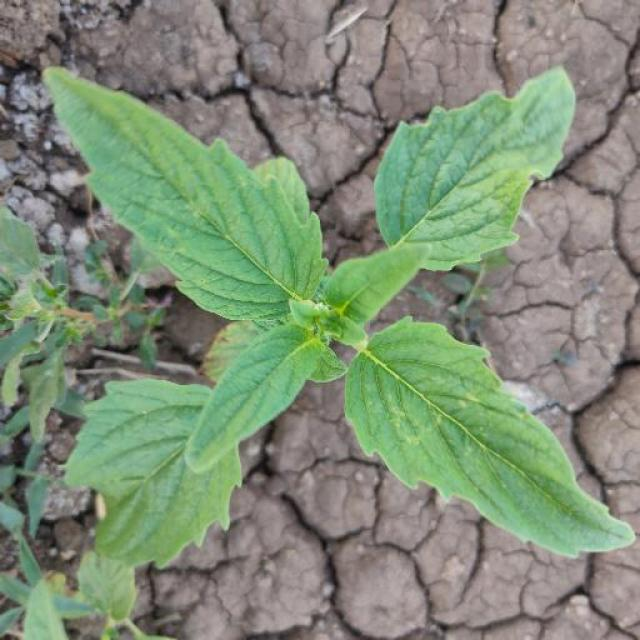crop: (30, 58, 628, 576)
